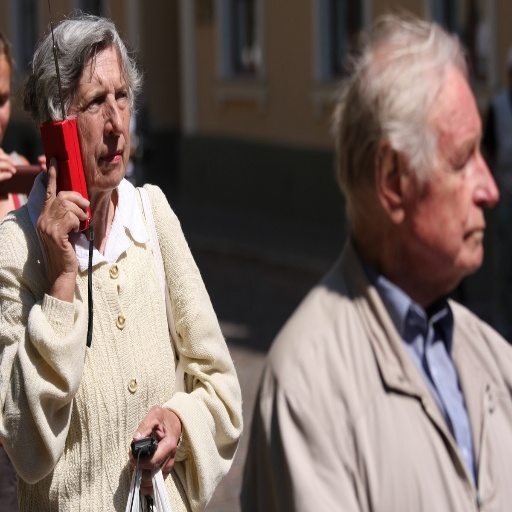hand: (29, 176, 83, 304), (125, 402, 184, 499), (0, 144, 15, 180), (37, 154, 48, 172)
